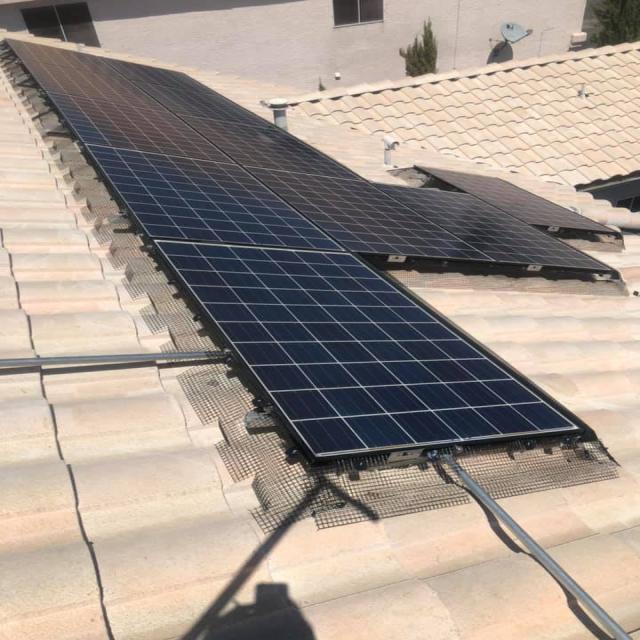clean-solar-panel: (8, 41, 617, 460)
